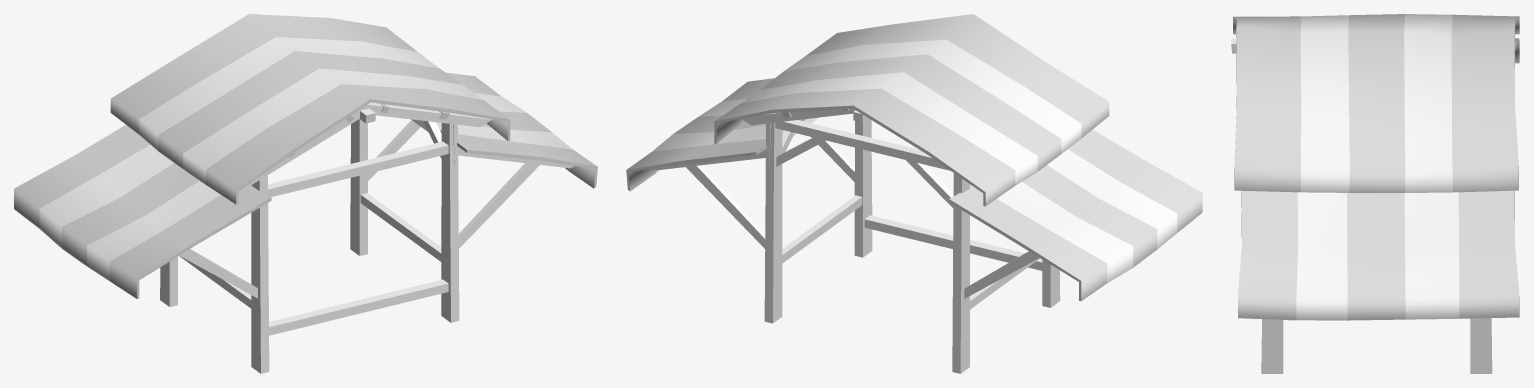
File: PT_Market_Stall_08_b.fbx
3 renders of one model, left to right at view 1: azimuth 30°, elevation 25°; view 2: azimuth 150°, elevation 25°; view 3: azimuth 270°, elevation 25°, orthographic. The views are drawn at different scales.
Visible parts, largest first — view 1: PT_Market_Stall_08_b; view 2: PT_Market_Stall_08_b; view 3: PT_Market_Stall_08_b.
Part boxes in pixels (left/top/right/bottom): PT_Market_Stall_08_b: left=14, top=14, right=597, bottom=373; PT_Market_Stall_08_b: left=626, top=14, right=1202, bottom=373; PT_Market_Stall_08_b: left=1231, top=14, right=1519, bottom=373.
Size of the model in its own units: 614 by 326 by 288.
Materials: 1 (1 with a texture image).
